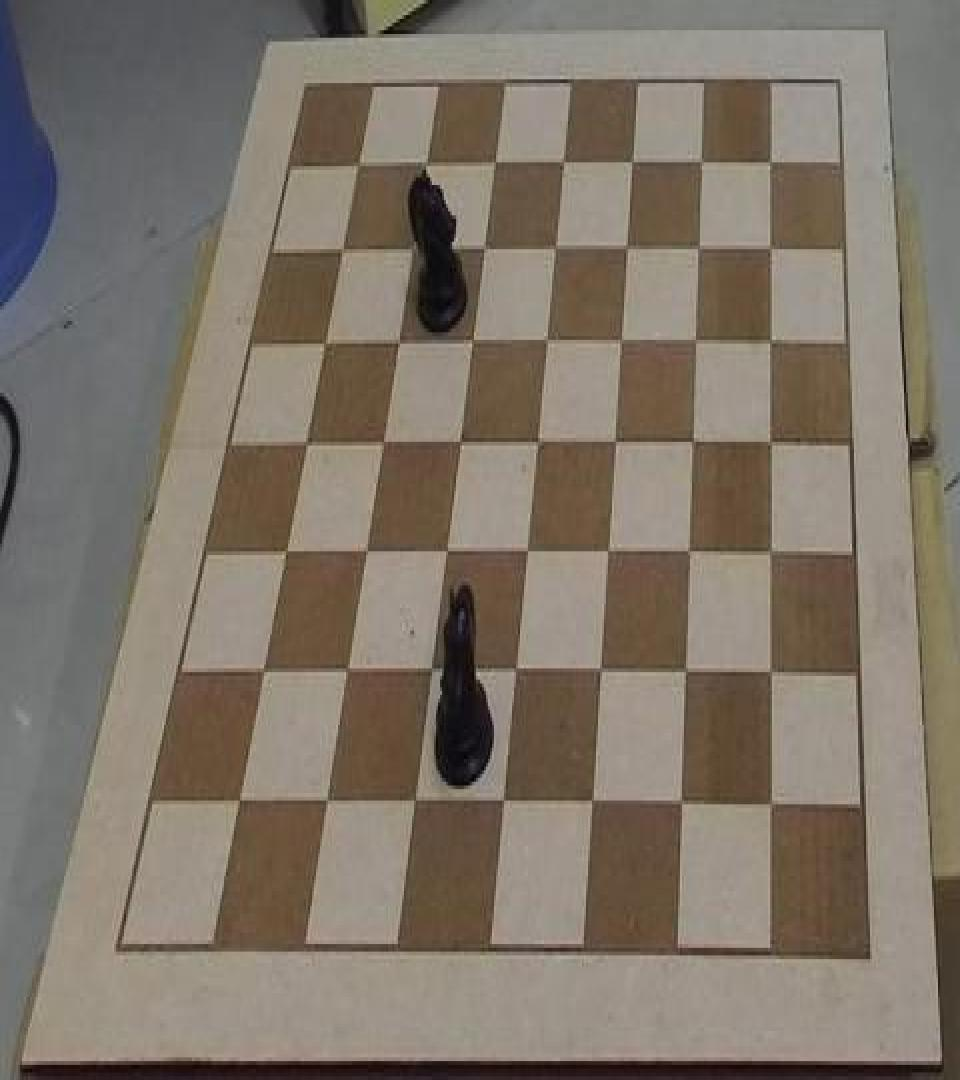xcorner: (761, 139, 781, 178), (691, 142, 711, 180), (621, 142, 641, 180), (552, 144, 572, 182), (483, 144, 503, 182), (414, 146, 434, 184), (345, 146, 365, 184), (762, 226, 782, 264), (689, 228, 709, 266), (616, 228, 636, 266), (544, 228, 564, 266), (472, 230, 492, 268), (400, 230, 420, 268), (329, 232, 349, 270), (762, 321, 782, 359), (686, 321, 706, 359), (610, 321, 630, 359), (535, 322, 555, 360), (460, 322, 480, 360), (386, 322, 406, 360), (312, 324, 332, 362), (762, 423, 782, 461), (683, 423, 703, 461), (604, 423, 624, 461), (526, 423, 546, 461), (448, 423, 468, 461), (371, 424, 391, 462), (294, 424, 314, 462), (762, 534, 782, 572), (679, 534, 699, 572), (597, 534, 617, 572), (516, 534, 536, 572), (434, 532, 454, 570), (354, 532, 374, 570), (273, 532, 293, 570), (762, 655, 782, 693), (676, 655, 696, 693), (590, 653, 610, 691), (504, 653, 524, 691), (420, 653, 440, 691), (335, 653, 355, 691), (251, 652, 271, 690), (763, 787, 783, 825), (672, 787, 692, 825), (582, 786, 602, 824), (492, 786, 512, 824), (403, 784, 423, 822), (315, 784, 335, 822), (227, 782, 247, 820)
